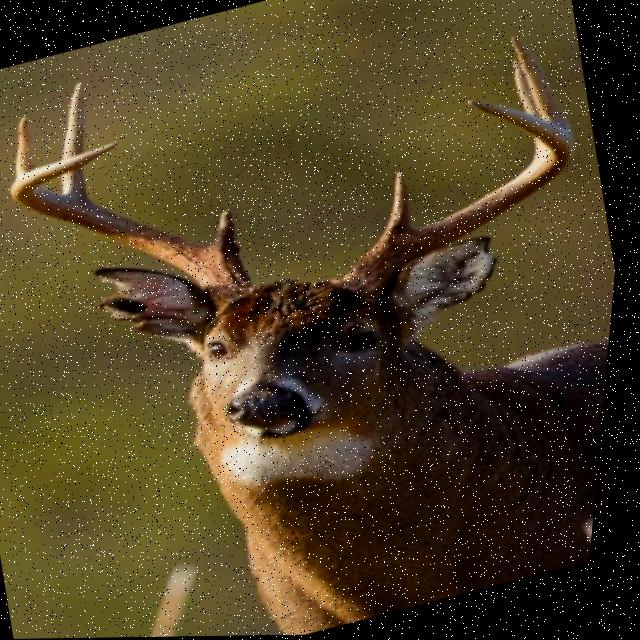L-F: (13, 141, 262, 314)
L-G1: (214, 211, 247, 253)
R-F: (336, 100, 579, 303)
R-G1: (388, 171, 415, 233)
R-G3: (510, 36, 576, 136)
